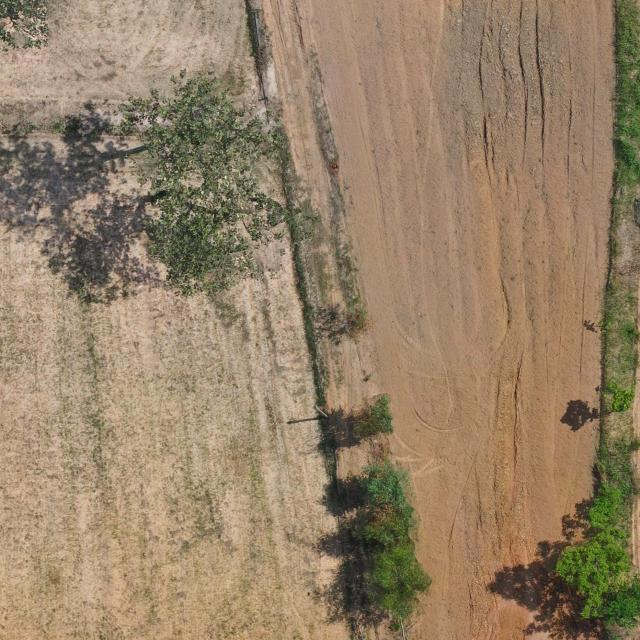Tree: (137, 177, 318, 299), (112, 64, 289, 186), (545, 531, 634, 623), (363, 546, 434, 622), (580, 484, 639, 535), (0, 0, 51, 53), (597, 568, 640, 629), (354, 512, 418, 546), (361, 469, 406, 514), (353, 394, 397, 438), (604, 383, 636, 416), (616, 318, 640, 348)
